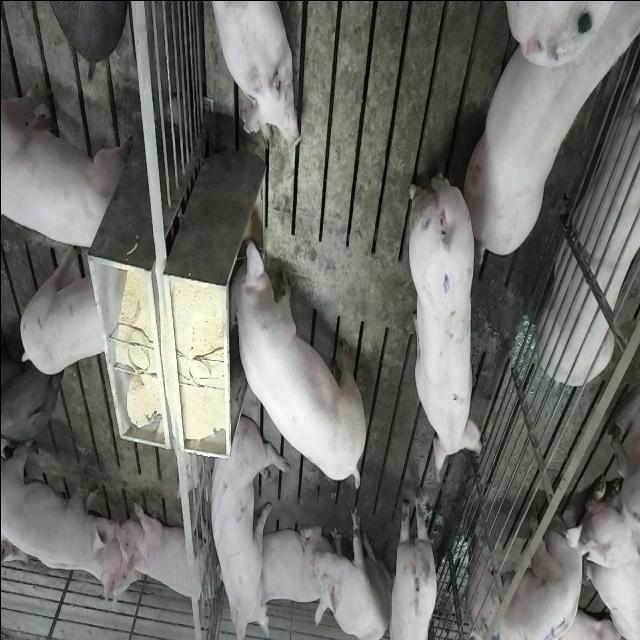Feeding: (220, 235, 360, 490)
Sitting: (203, 409, 281, 635), (306, 503, 392, 639)
Standing: (406, 162, 480, 478), (2, 79, 126, 254), (2, 438, 130, 596), (460, 505, 590, 640), (18, 240, 107, 374), (386, 486, 438, 638), (0, 337, 58, 449)
Sternal_lying: (538, 70, 640, 389), (206, 0, 300, 149), (258, 520, 326, 612)
